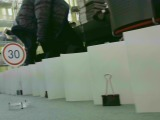speed_30: (1, 42, 27, 68)
